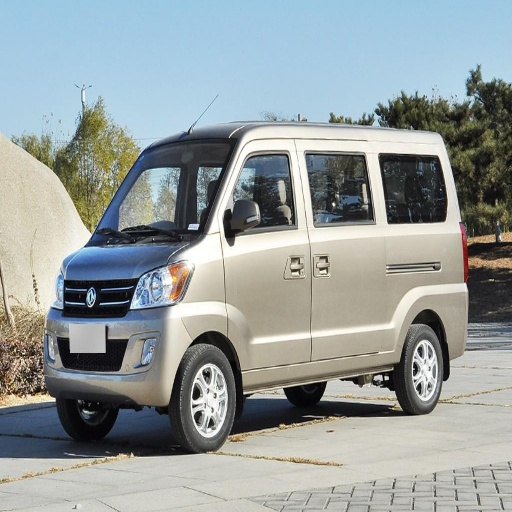front_bumper: (43, 277, 189, 401)
front_glass: (95, 142, 230, 242)
front_left_door: (221, 147, 312, 370)
trunk: (377, 236, 458, 346)
